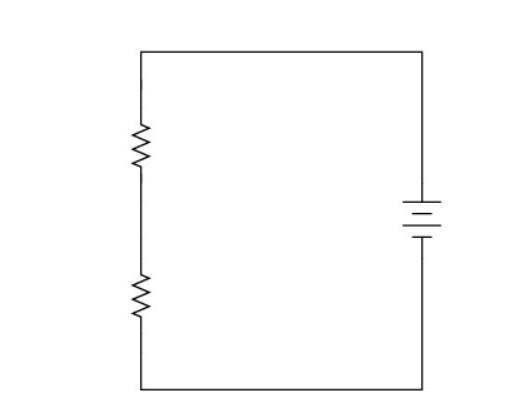resistor: (117, 105, 170, 184), (115, 246, 161, 321)
